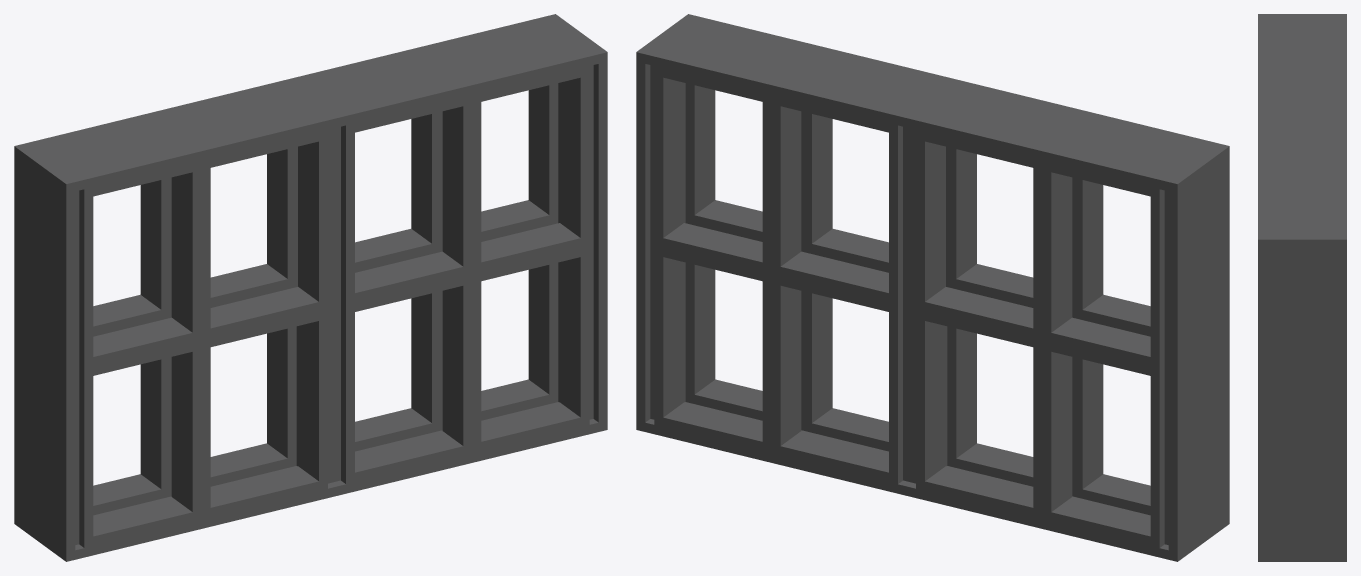
The model's file is Green House Wall 4 2.obj.
3 views of the same model, side by side, from view 1: azimuth 30°, elevation 25°; view 2: azimuth 150°, elevation 25°; view 3: azimuth 270°, elevation 25° (orthographic). The views are drawn at different scales.
Bounding box in the file's own units: 60 × 40 × 10.
1 material, 1 textured.
